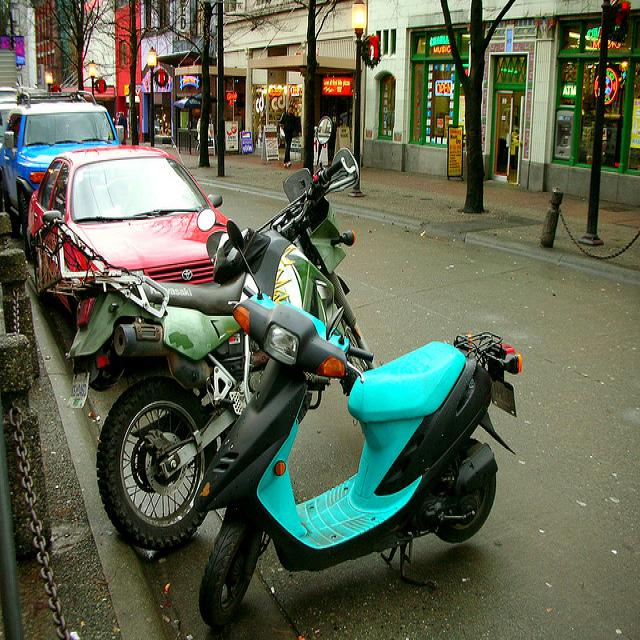motor: (33, 116, 369, 549), (200, 289, 525, 629)
